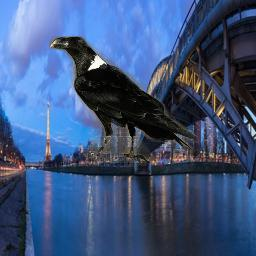Crow: (49, 36, 199, 163)
